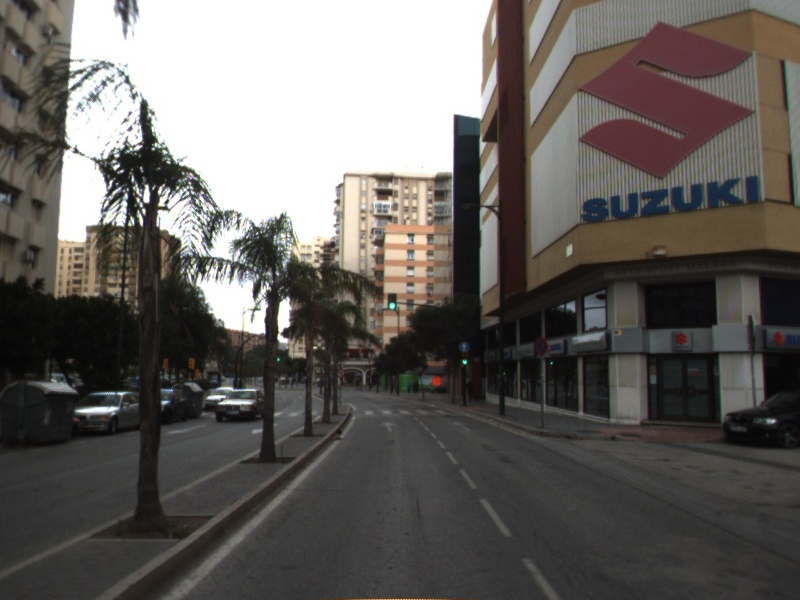STRAIGHT: (377, 418, 401, 434), (450, 419, 474, 434)
